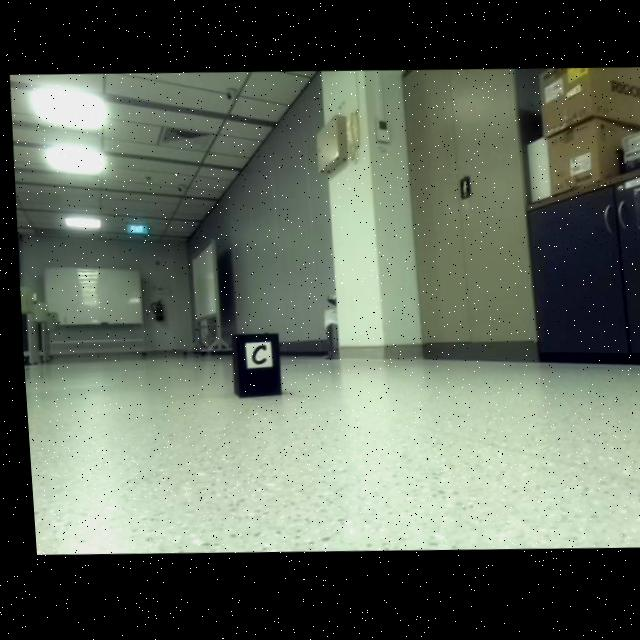C: (246, 346, 262, 366), (246, 347, 261, 366)
